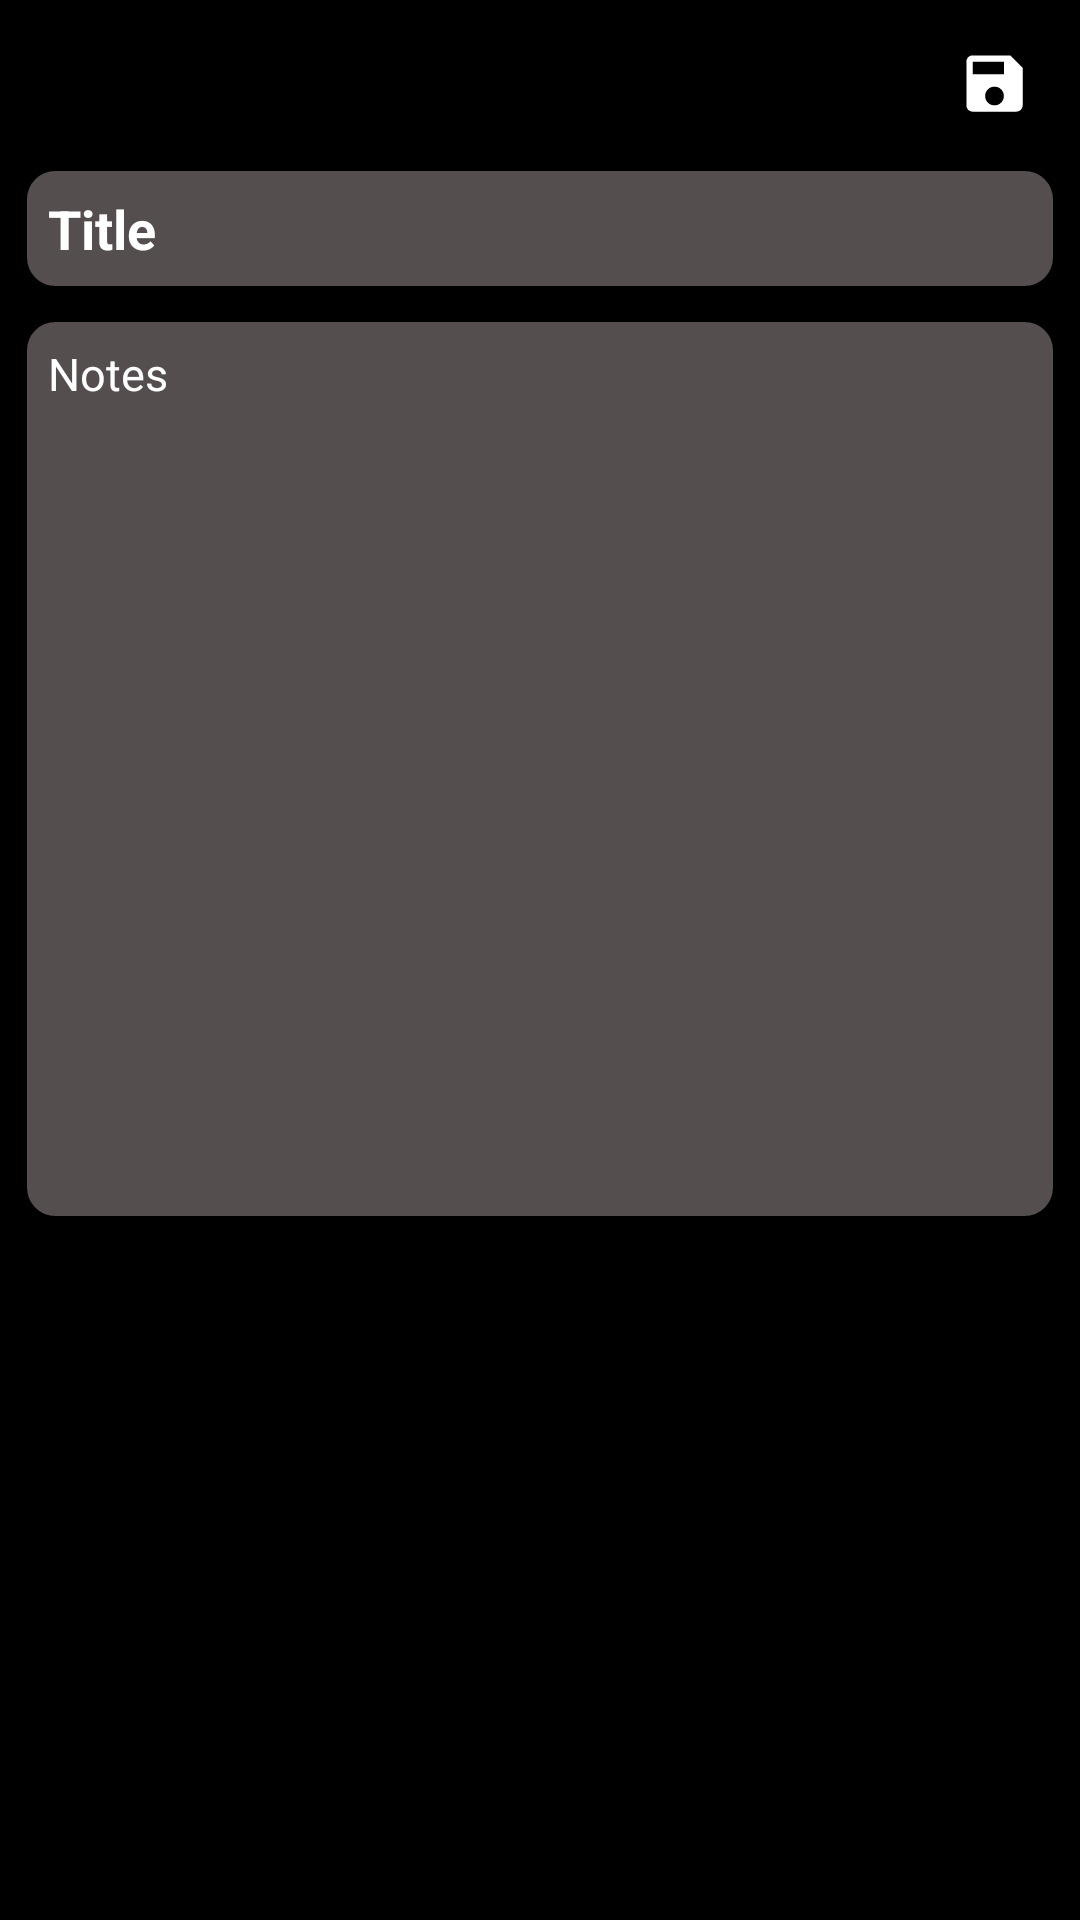

Where icons sit on this 1080px x 1920px app screen, as (x1, y1, x2, y2):
save: (966, 55, 1023, 112)
